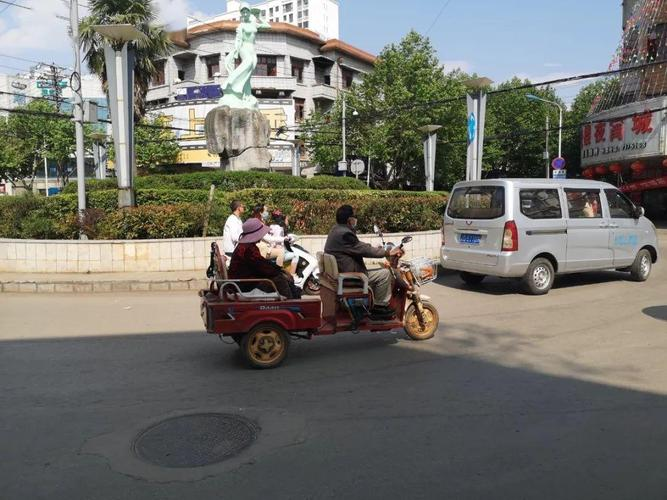driver: (324, 205, 399, 328)
overloading: (197, 196, 446, 362)
passenger: (221, 220, 292, 309)
